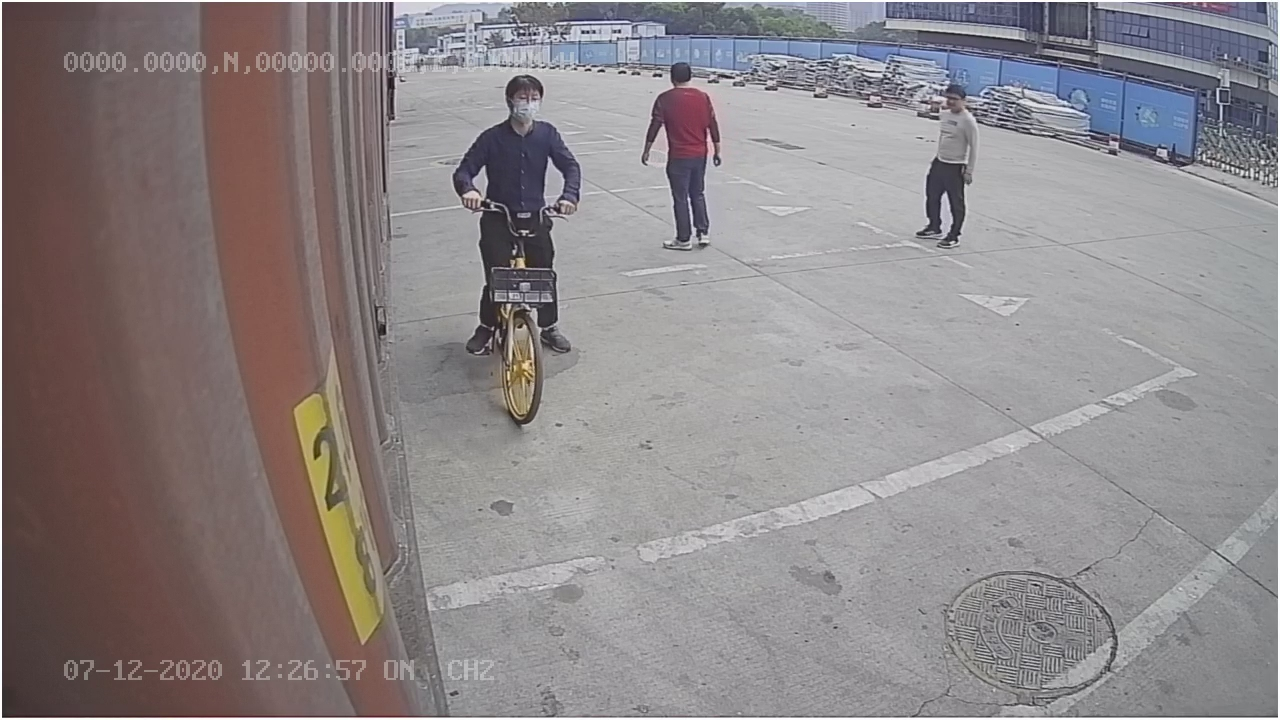person: (633, 56, 723, 256)
